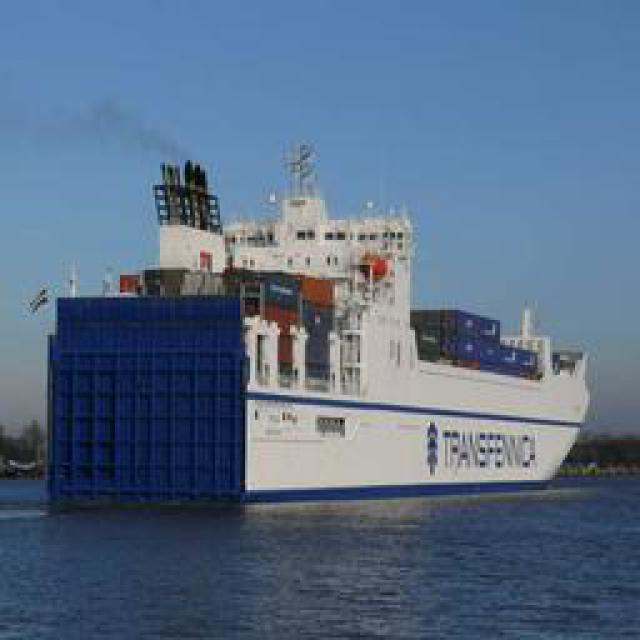Ship: (28, 137, 602, 521)
